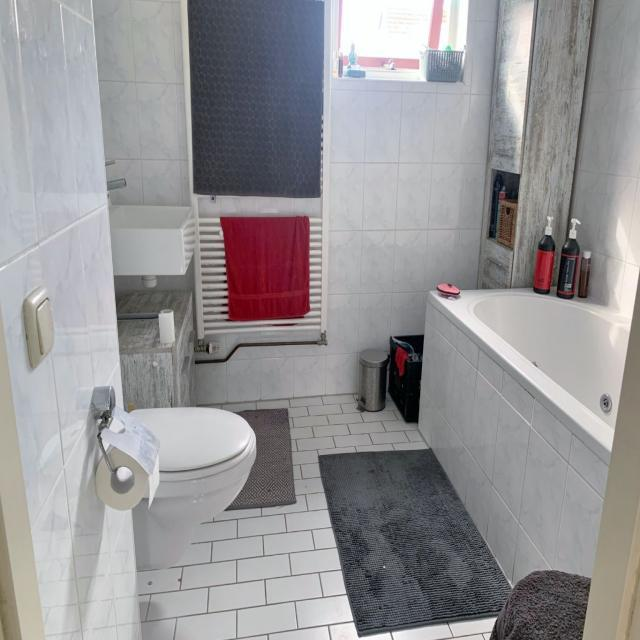bath: (429, 283, 632, 469)
designradiator: (182, 0, 332, 365)
toilet: (126, 406, 256, 572)
wastafel: (106, 159, 194, 287), (118, 286, 196, 414)
